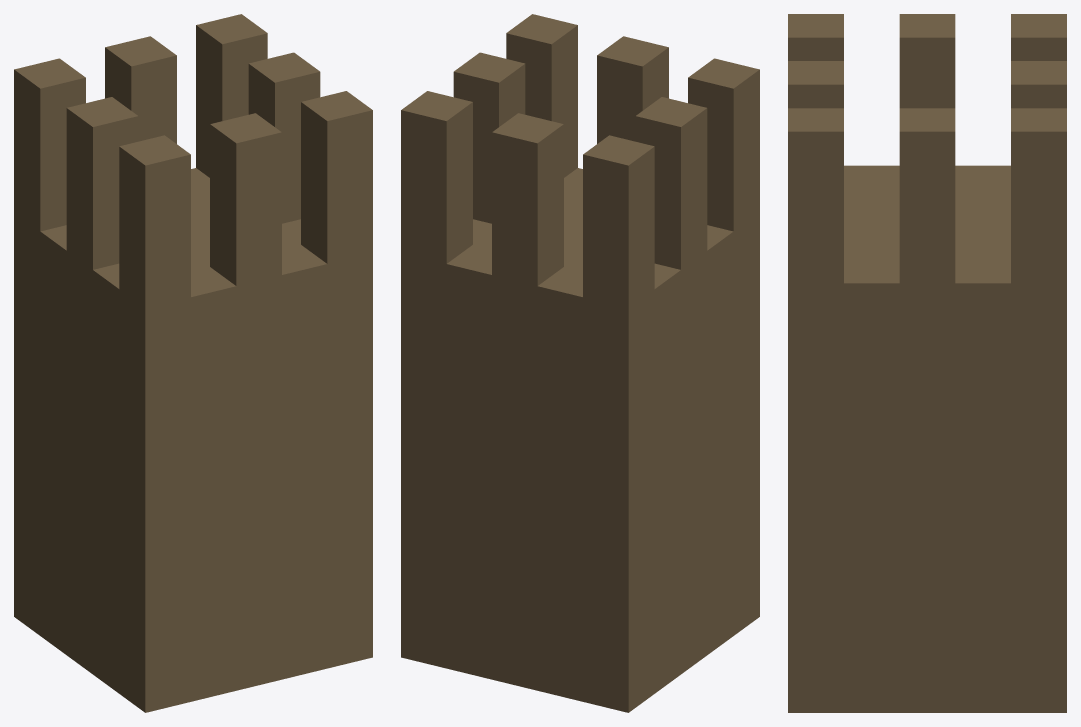
Rendered from rook_black.fbx.
3 renders of one model, left to right at view 1: azimuth 30°, elevation 25°; view 2: azimuth 150°, elevation 25°; view 3: azimuth 270°, elevation 25°, orthographic. The views are drawn at different scales.
Parts seen in each view (by area): view 1: Cube.012; view 2: Cube.012; view 3: Cube.012.
Boxes of the visible parts, x1=… form: Cube.012: x1=14, y1=14, x2=372, y2=712; Cube.012: x1=401, y1=14, x2=759, y2=712; Cube.012: x1=788, y1=14, x2=1066, y2=712.
Bounding box in the file's own units: 2.8 × 6.43 × 2.8.
